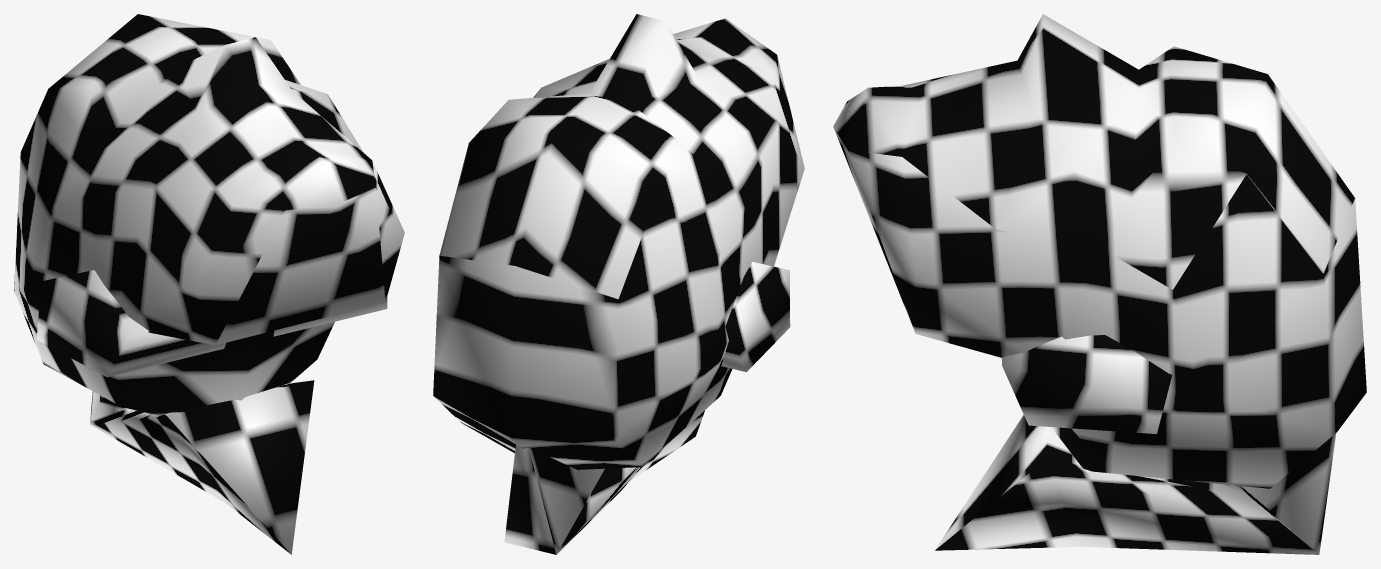
The model's file is infaunhumame3.dae.
3 renders of one model, left to right at view 1: azimuth 30°, elevation 25°; view 2: azimuth 150°, elevation 25°; view 3: azimuth 270°, elevation 25°, orthographic. The views are drawn at different scales.
Parts seen in each view (by area): view 1: face; view 2: face; view 3: face.
Boxes of the visible parts, bbox=[...] form: face: bbox=[14, 14, 404, 554]; face: bbox=[433, 14, 804, 554]; face: bbox=[833, 14, 1366, 554].
Bounding box in the file's own units: 0.9744 × 1.34 × 1.46.
Materials: 1 (1 with a texture image).
